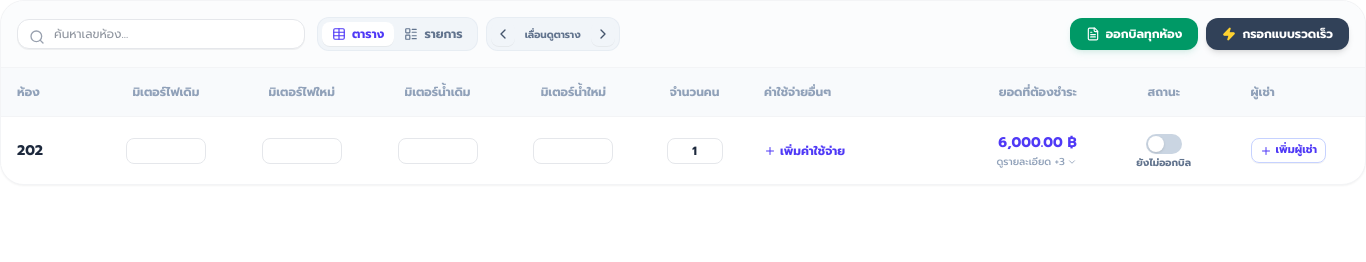
Scenario: LOCAL-07 Backend Canonical Owner Payable Preview Suite › 10. 3-component room -> 3 components in DTO and DOM rendered in table
The image size is (1366, 262).
Expected: the text "202" is shown, left=1, top=116, right=98, bottom=184
Expected: the text "6,000.00 ฿" is shown, left=998, top=133, right=1077, bottom=153
# Expand detail
Step 1. Click the button "ดูรายละเอียด +3" → (1037, 162), box left=996, top=155, right=1077, bottom=168
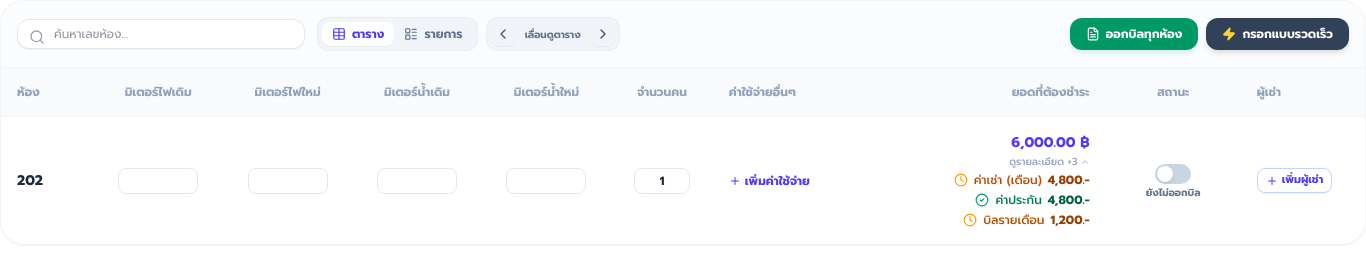
Result: the text "ค่าเช่า (เดือน)" is shown at left=974, top=172, right=1042, bottom=188
Result: the text "ค่าประกัน" is shown at left=995, top=192, right=1042, bottom=208
Result: the text "บิลรายเดือน" is shown at left=983, top=212, right=1044, bottom=228
